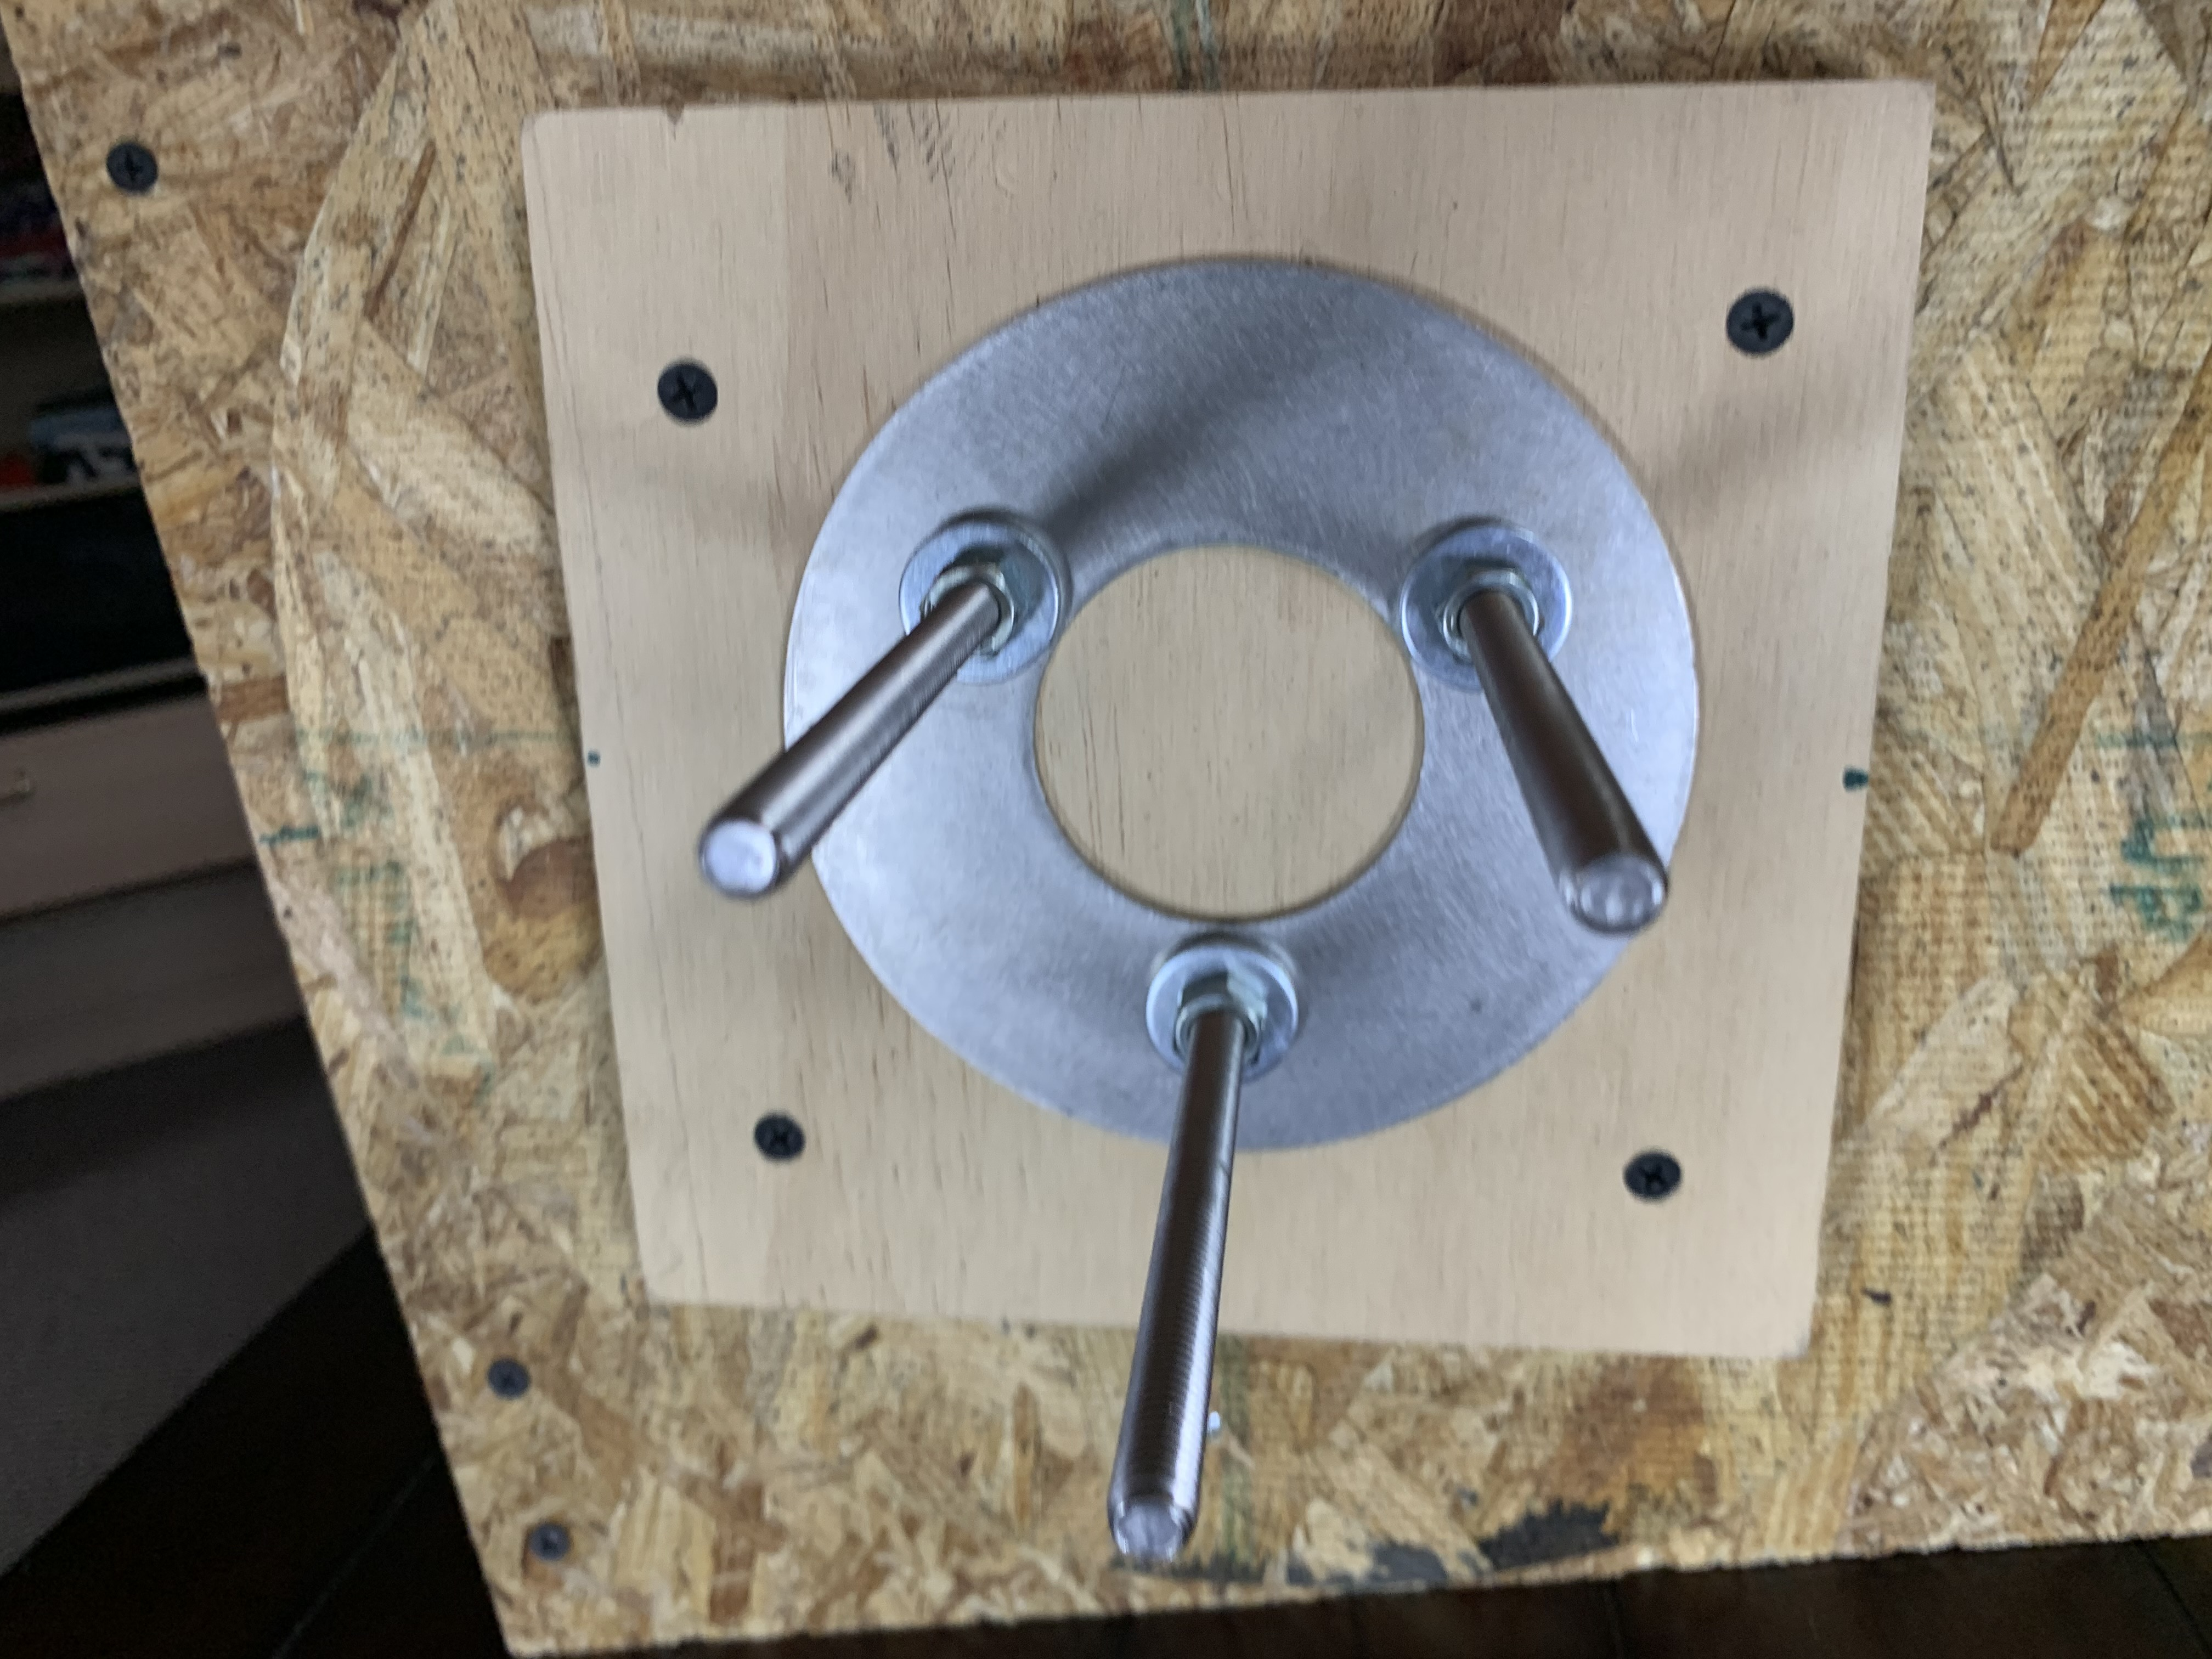bolt: (1390, 518, 1573, 695), (892, 507, 1069, 688), (1141, 932, 1305, 1084)
